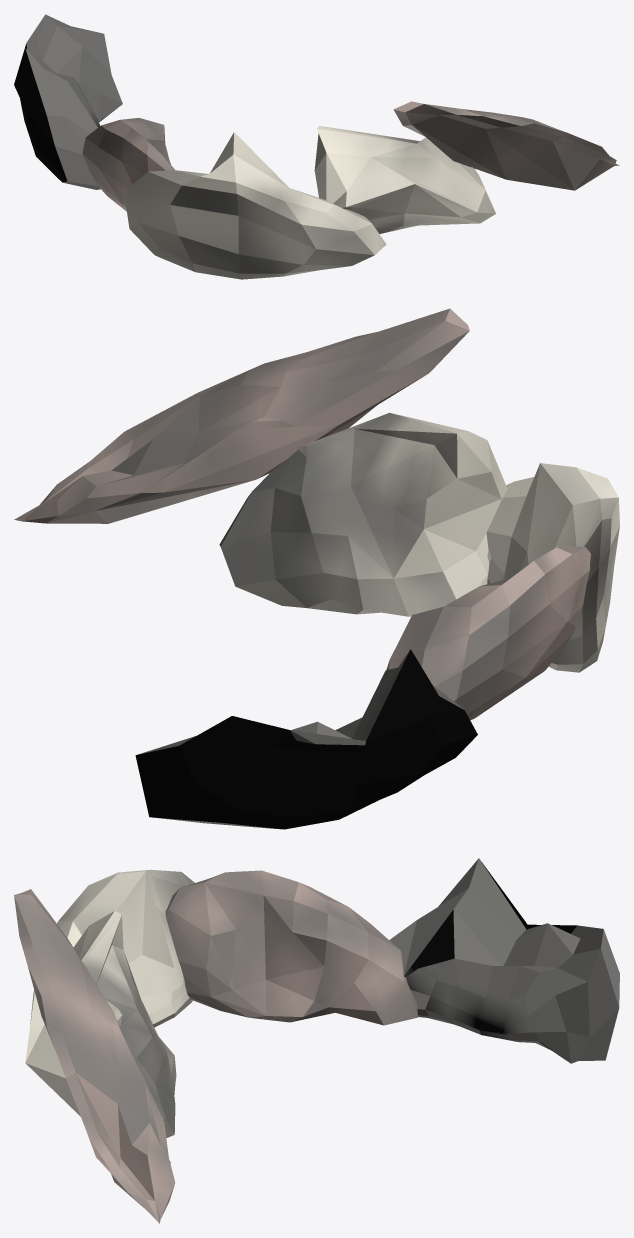
Rendered from Border.obj.
The picture shows the model from 3 angles, top to bottom: view 1: azimuth 30°, elevation 25°; view 2: azimuth 150°, elevation 25°; view 3: azimuth 270°, elevation 25°; orthographic projection. The views are drawn at different scales.
Visible parts, largest first — view 1: Cube.004; view 2: Cube.004; view 3: Cube.004.
Part boxes in pixels (bbox=[...]): Cube.004: bbox=[14, 14, 619, 279]; Cube.004: bbox=[14, 308, 619, 829]; Cube.004: bbox=[14, 858, 619, 1223].
Size of the model in its own units: 9.02 by 3.46 by 9.29.
